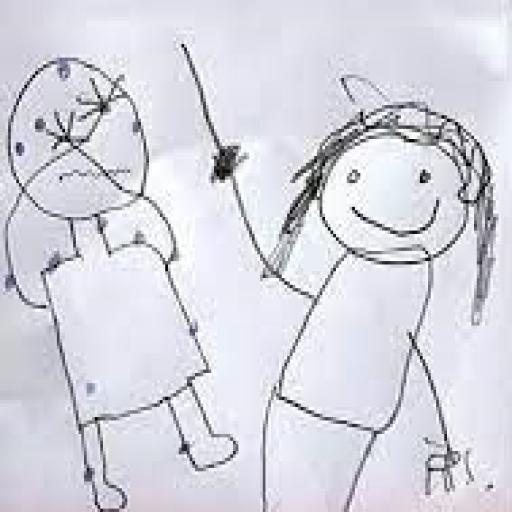person: (182, 41, 512, 512), (0, 51, 247, 508)
